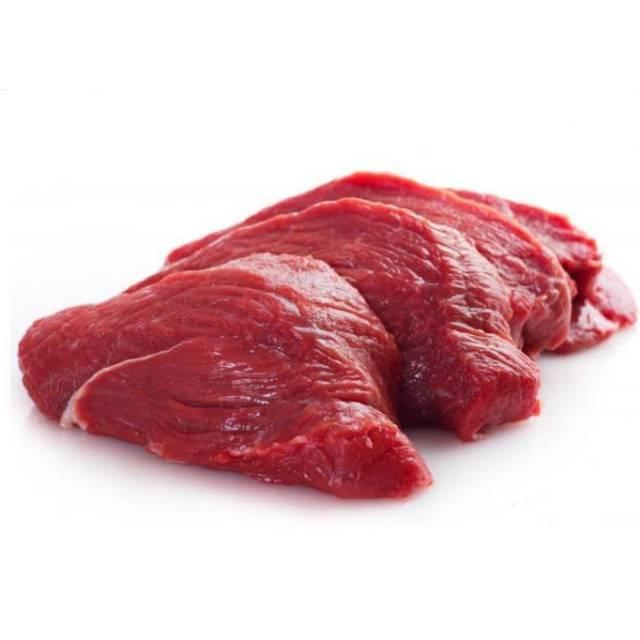beef: (12, 233, 457, 523), (167, 170, 631, 447)
